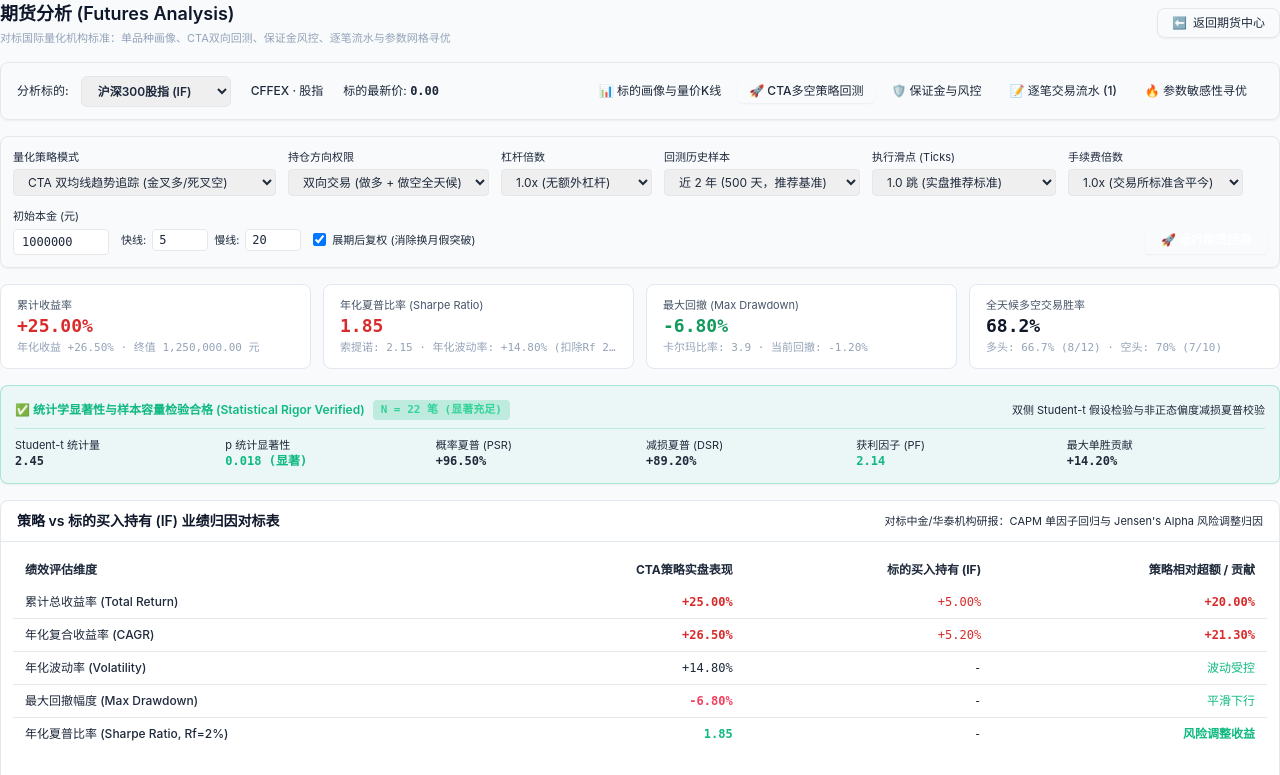
Test: FuturesAnalysis Component › supports switching tabs to profile, margin, blotter, and sensitivity
切换到标的画像 Tab
Click the button "📊 标的画像与量价K线": (660, 91) [587,79,733,103]
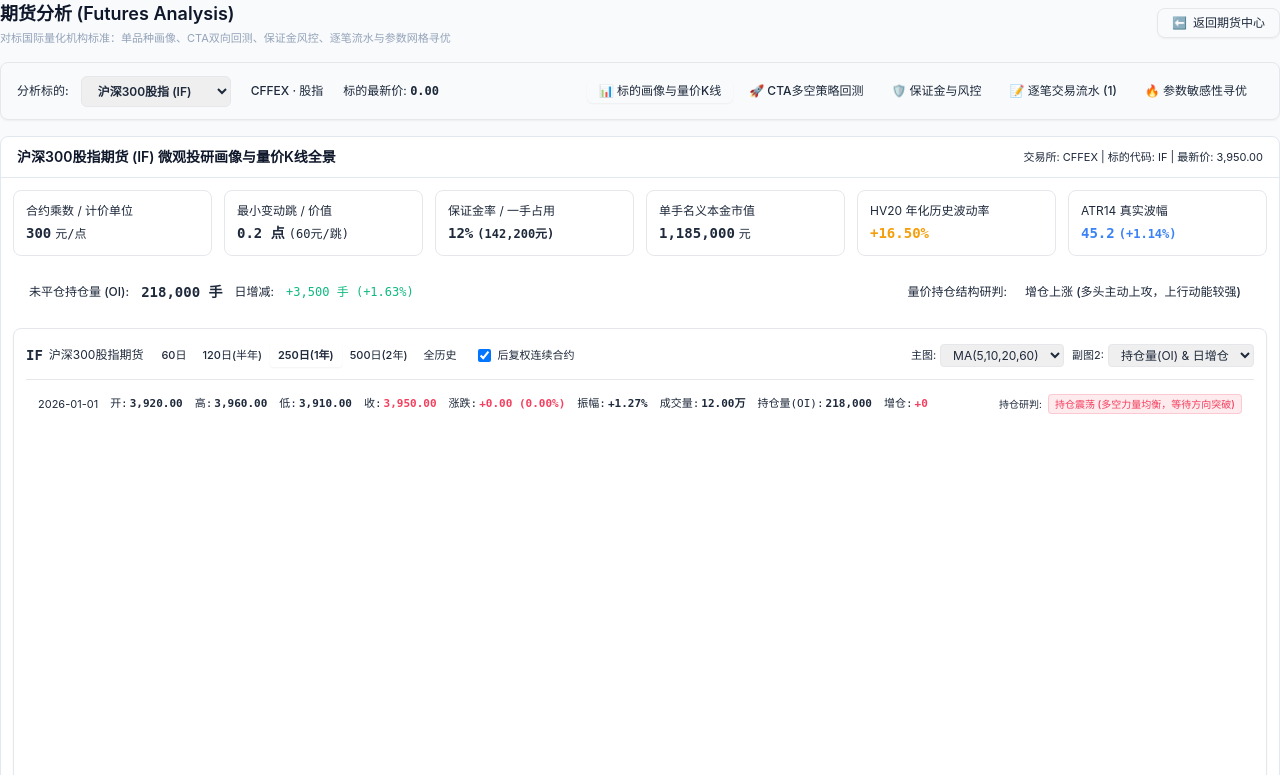
Expected: the text "合约乘数 / 计价单位" is shown, [26,203,133,218]
Expected: the text "HV20 年化历史波动率" is shown, [870,203,990,218]
切换到保证金风控 Tab
Click the button "🛡️ 保证金与风控": (936, 91) [879,79,994,103]
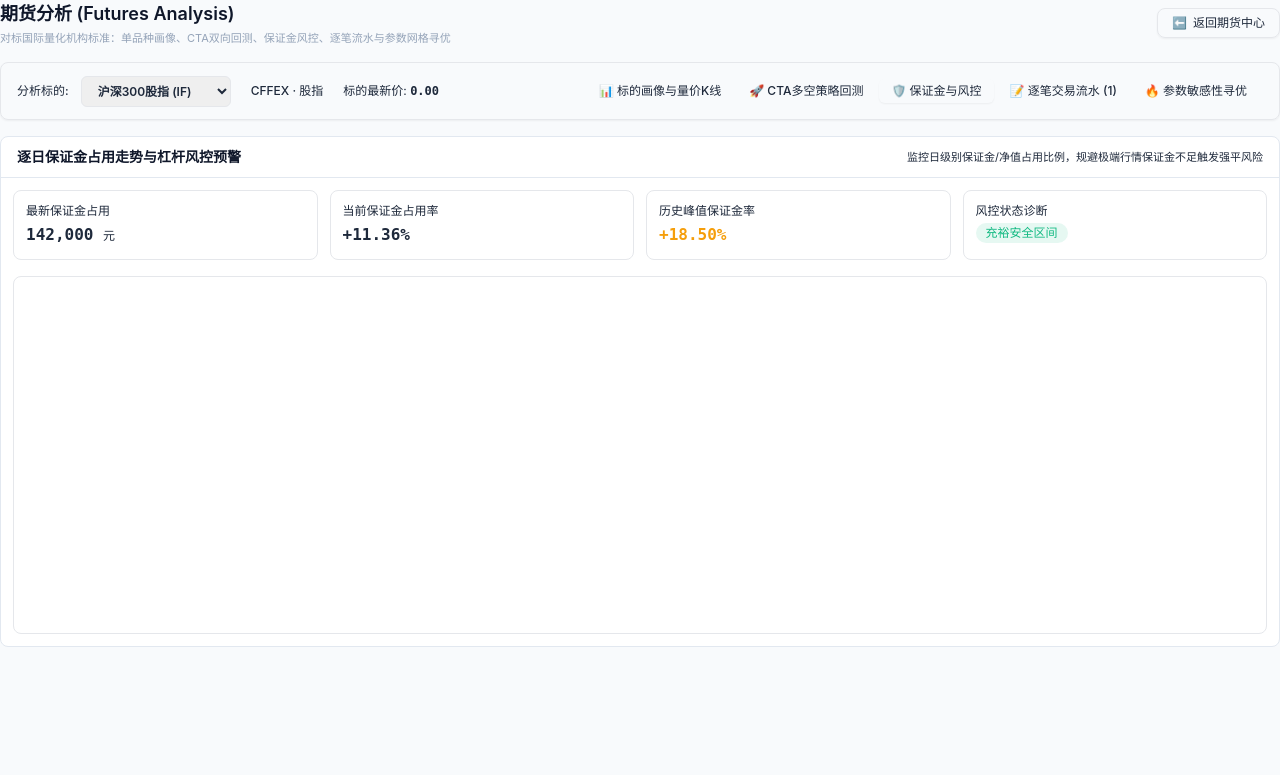
Expected: the heading "逐日保证金占用走势与杠杆风控预警" is shown, [17,147,241,167]
Expected: the text "历史峰值保证金率" is shown, [659,203,755,218]
切换到逐笔交易流水 Tab
Click the button "📝 逐笔交易流水 (1)": (1063, 91) [998,79,1129,103]
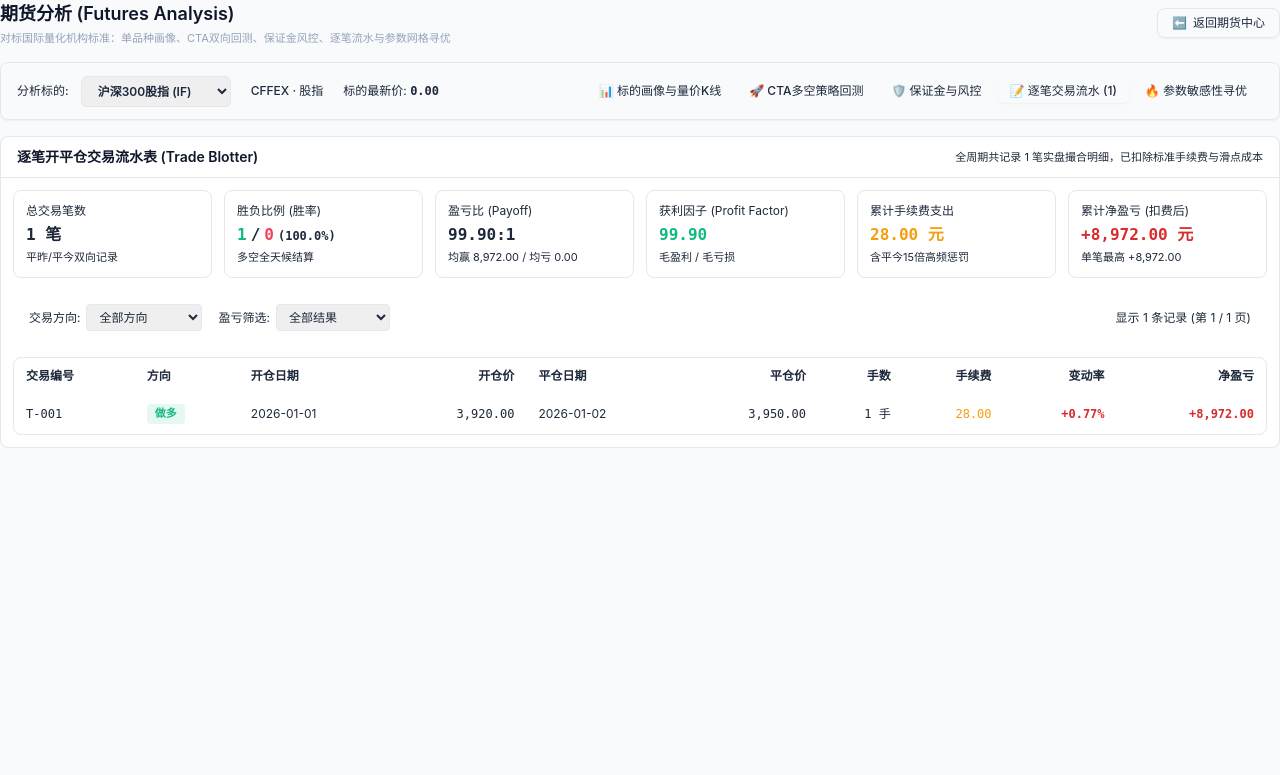
Expected: the heading "逐笔开平仓交易流水表 (Trade Blotter)" is shown, [17,147,258,167]
Expected: the text "T-001" is shown, [14,394,135,434]
切换到参数寻优 Tab
Click the button "🔥 参数敏感性寻优": (1196, 91) [1133,79,1259,103]
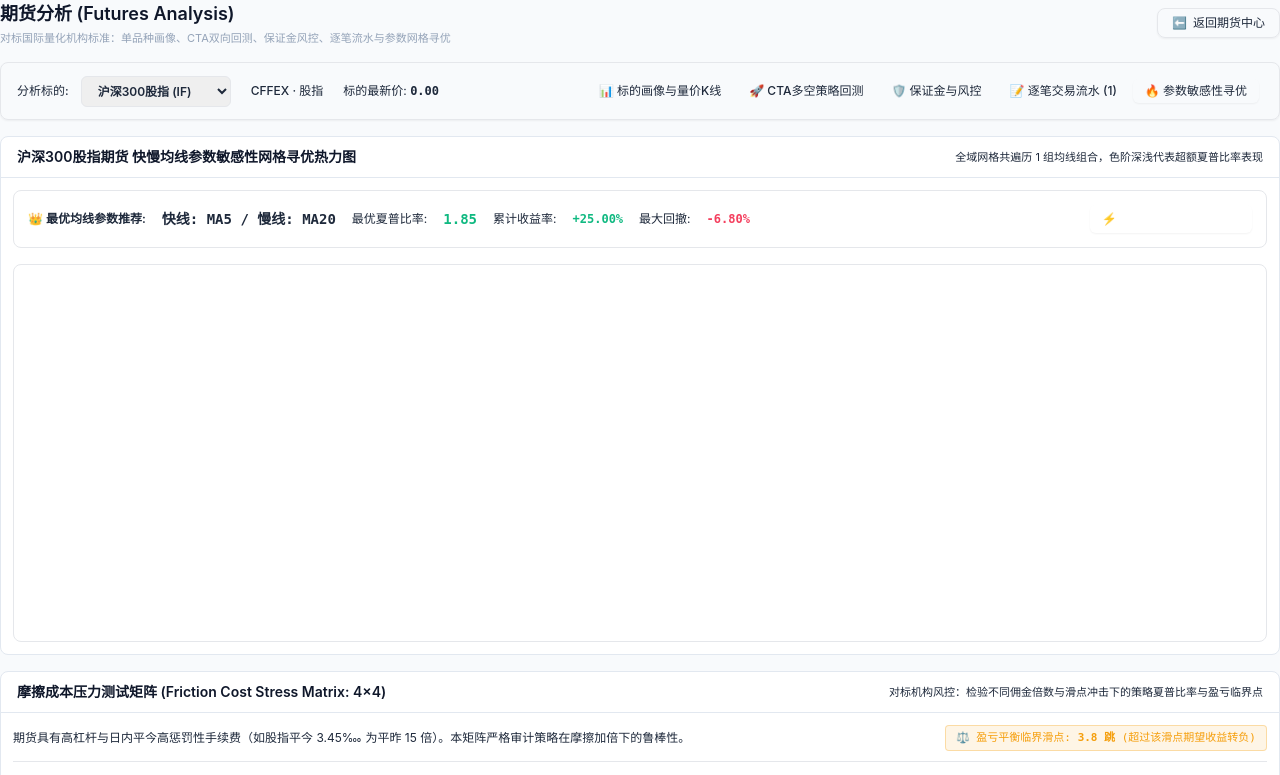
Expected: the text "👑 最优均线参数推荐:" is shown, [28,211,146,227]
Expected: the heading "摩擦成本压力测试矩阵 (Friction Cost Stress Matrix: 4×4)" is shown, [17,682,386,702]
Expected: the text "⚖️ 盈亏平衡临界滑点: 3.8 跳 (超过该滑点期望收益转负)" is shown, [945,725,1267,751]
